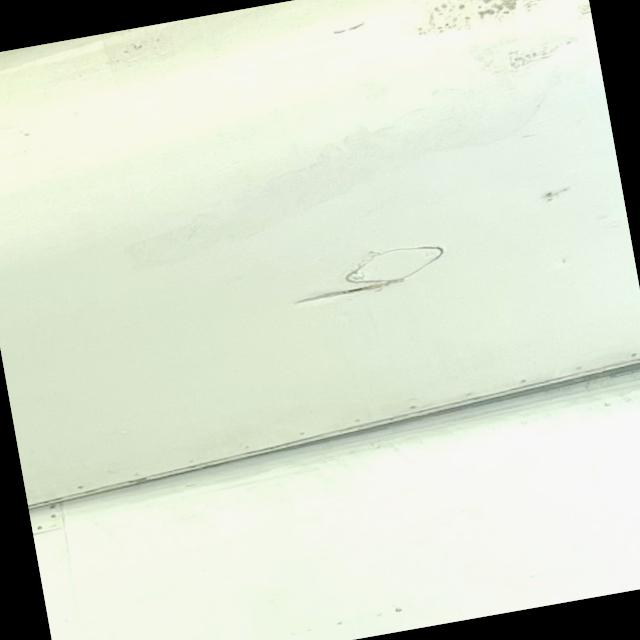crack: (276, 268, 422, 320)
